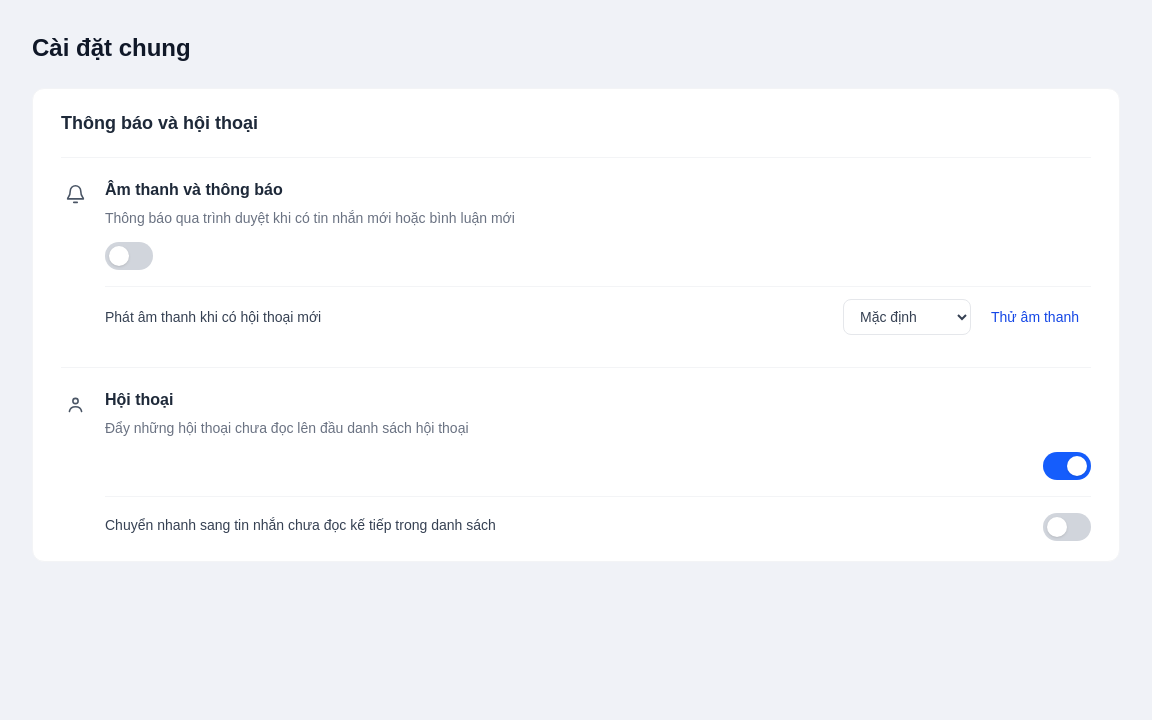
Test case: GeneralSettingsPanel › rolls back a failed optimistic save and exposes an error alert
Click the switch named "Đẩy hội thoại chưa đọc lên đầu danh sách". click: (1067, 466)
box: 1043,452 -> 1091,480
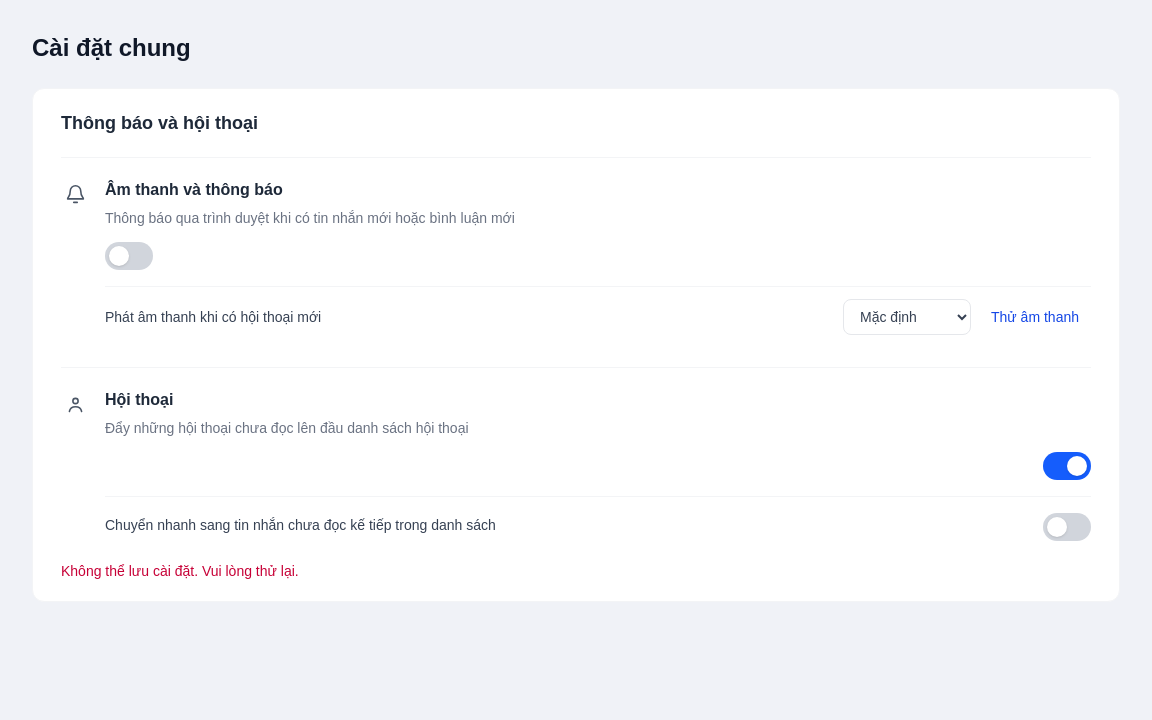
Check: the message "Không thể lưu cài đặt. Vui lòng thử lại." is shown, box 61,563 -> 299,579
